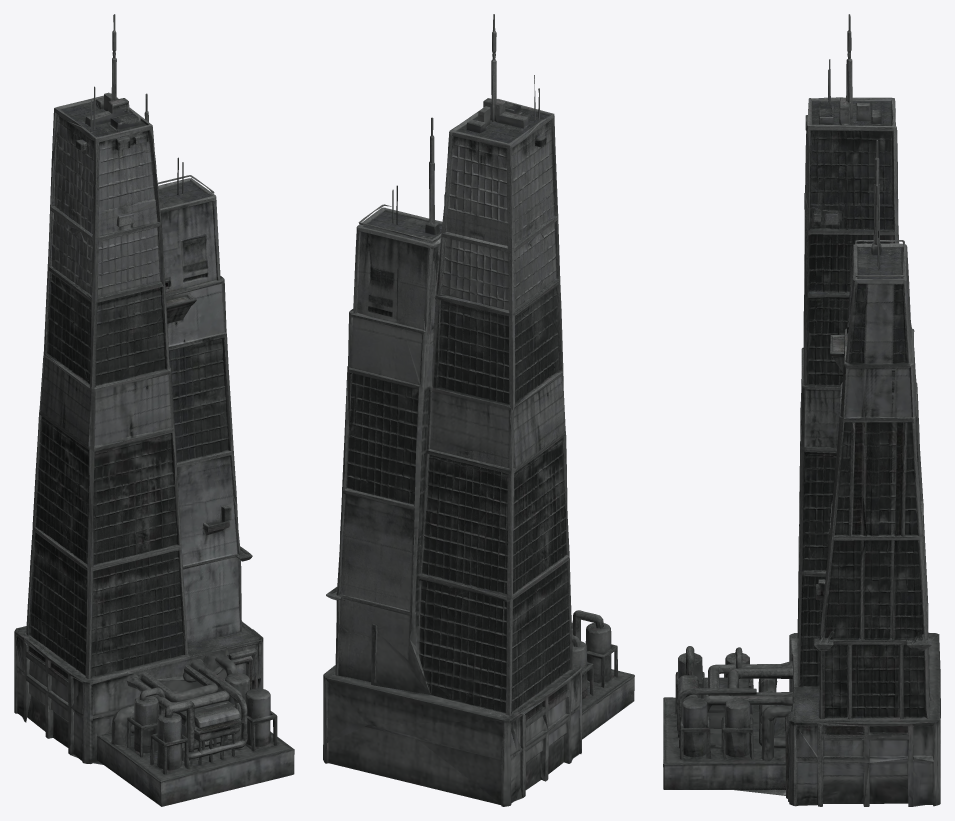
Rendered from coronetspire.glb.
3 views of the same model, side by side, from view 1: azimuth 30°, elevation 25°; view 2: azimuth 150°, elevation 25°; view 3: azimuth 270°, elevation 25° (orthographic). The views are drawn at different scales.
Visible parts, largest first — view 1: coronetspire-centred; view 2: coronetspire-centred; view 3: coronetspire-centred.
Boxes of the visible parts, x1,y1,x2,y2 form: coronetspire-centred: (14, 14, 294, 806); coronetspire-centred: (323, 14, 634, 806); coronetspire-centred: (663, 14, 940, 806).
Bounding box in the file's own units: 37.47 × 140 × 48.16.
Materials: 1 (1 with a texture image).
